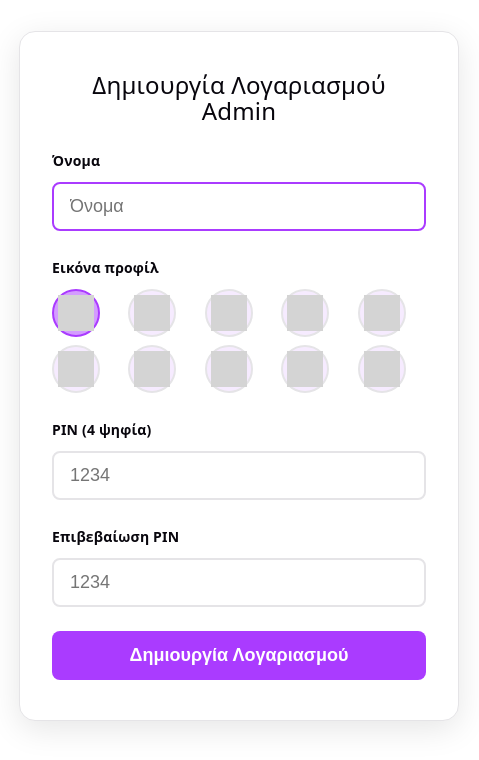
Test: Setup › shows error when PINs do not match
The width and height of the screenshot is (479, 760).
In the field with placeholder "Όνομα": (239, 206) [52,182,426,231], type "Dad"
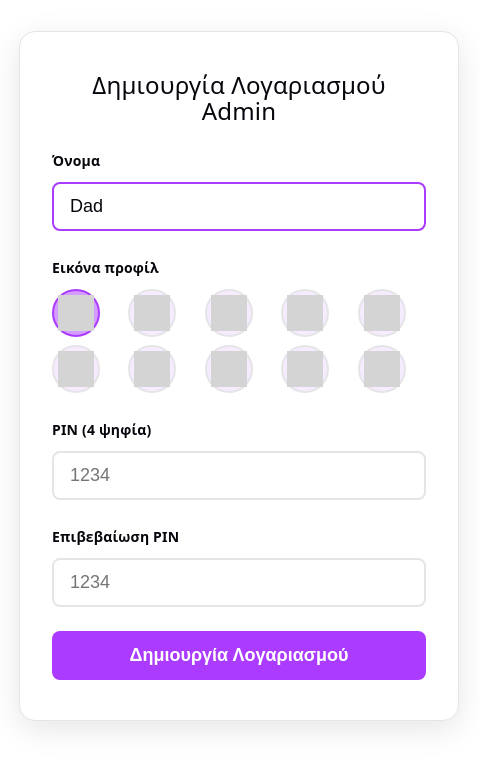
In the password field with placeholder "1234": (239, 476) [52,451,426,500], type "1234"
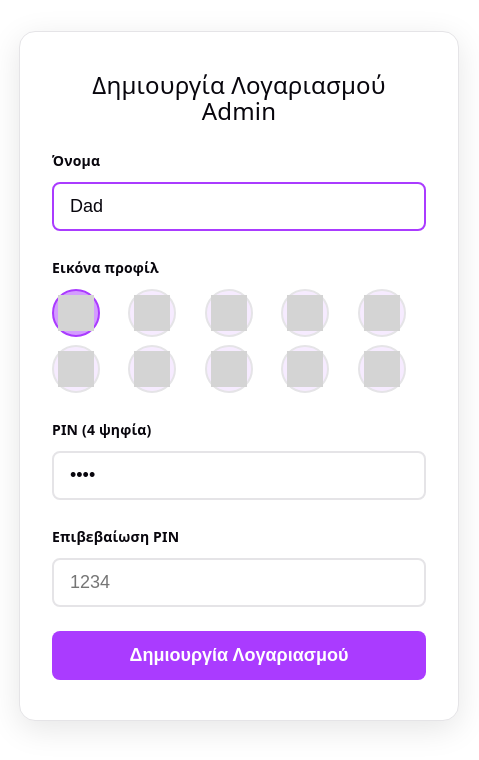
In the password field with placeholder "1234": (239, 583) [52,558,426,607], type "5678"
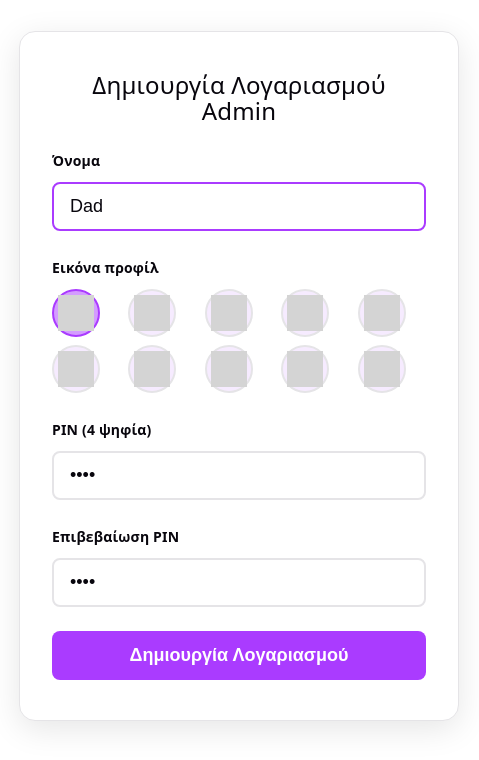
Click the button "Δημιουργία Λογαριασμού": (239, 656) [52,631,426,680]
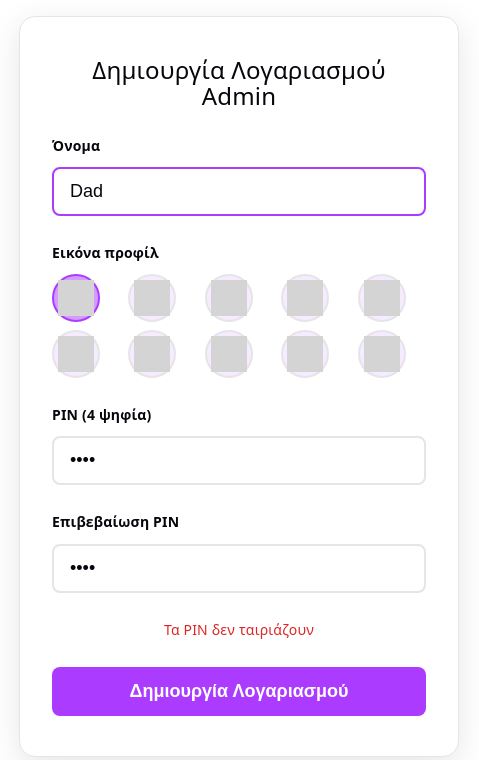
Result: the text "Τα PIN δεν ταιριάζουν" is shown at [164,620,314,639]
